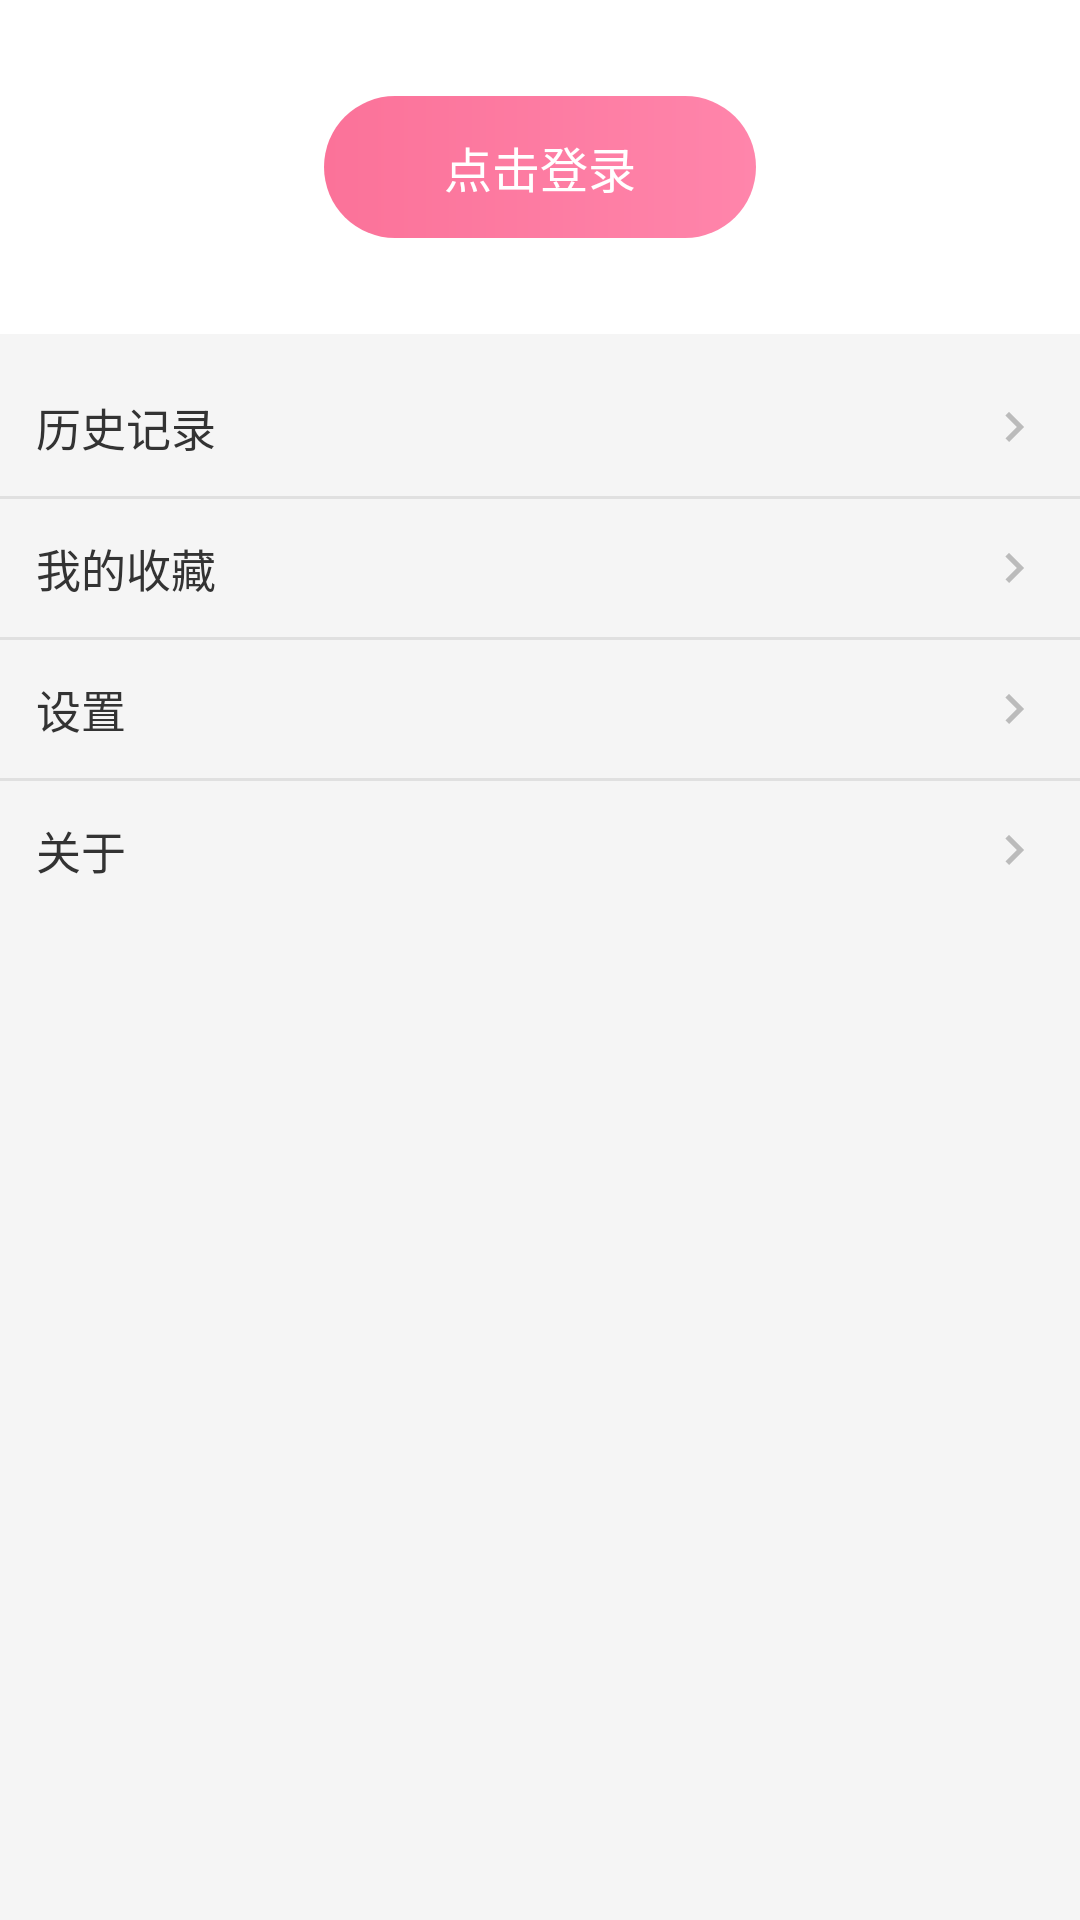

Icon bounding boxes for this 1080 × 1920 phone screenshot, format (left=x1, top=y1, right=x2, bottom=y2):
arrow forward: (left=1006, top=412, right=1024, bottom=442), (left=1006, top=553, right=1024, bottom=583), (left=1006, top=694, right=1024, bottom=724), (left=1006, top=835, right=1024, bottom=865)
